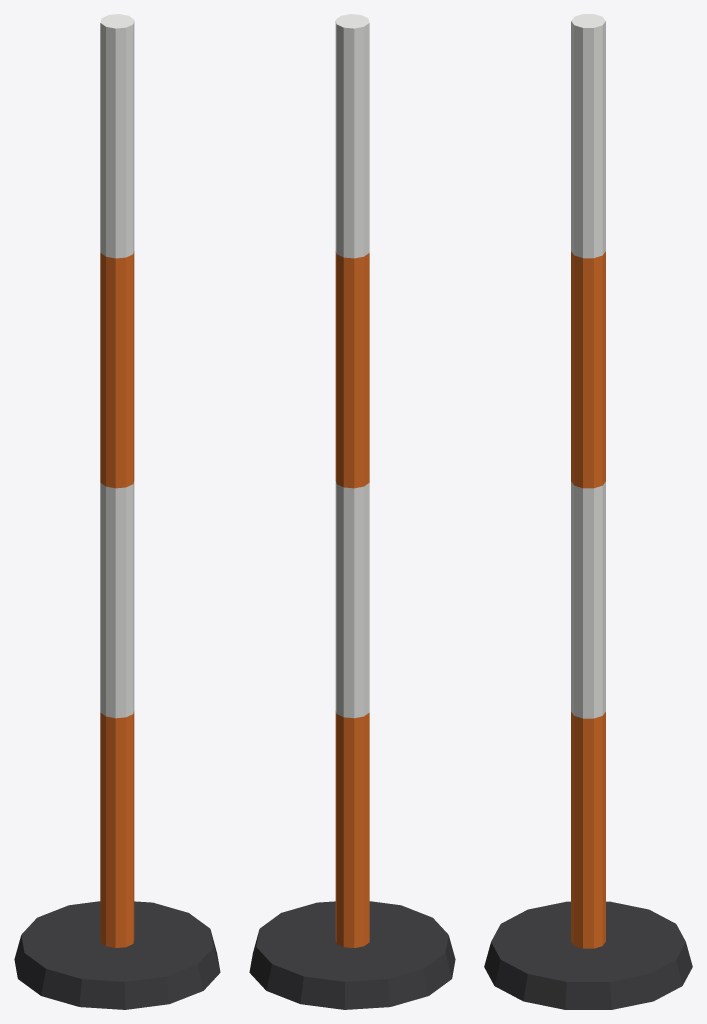
File: training_pole.glb
3 views of the same model, side by side, from view 1: azimuth 30°, elevation 25°; view 2: azimuth 150°, elevation 25°; view 3: azimuth 270°, elevation 25° (orthographic).
Visible parts, largest first — view 1: training_pole; view 2: training_pole; view 3: training_pole.
Boxes of the visible parts, box(x1,y1,x2,y2) form: training_pole: box(14, 14, 220, 1009); training_pole: box(249, 14, 455, 1009); training_pole: box(484, 14, 692, 1009).
Bounding box in the file's own units: 0.2925 × 1.5 × 0.3.
